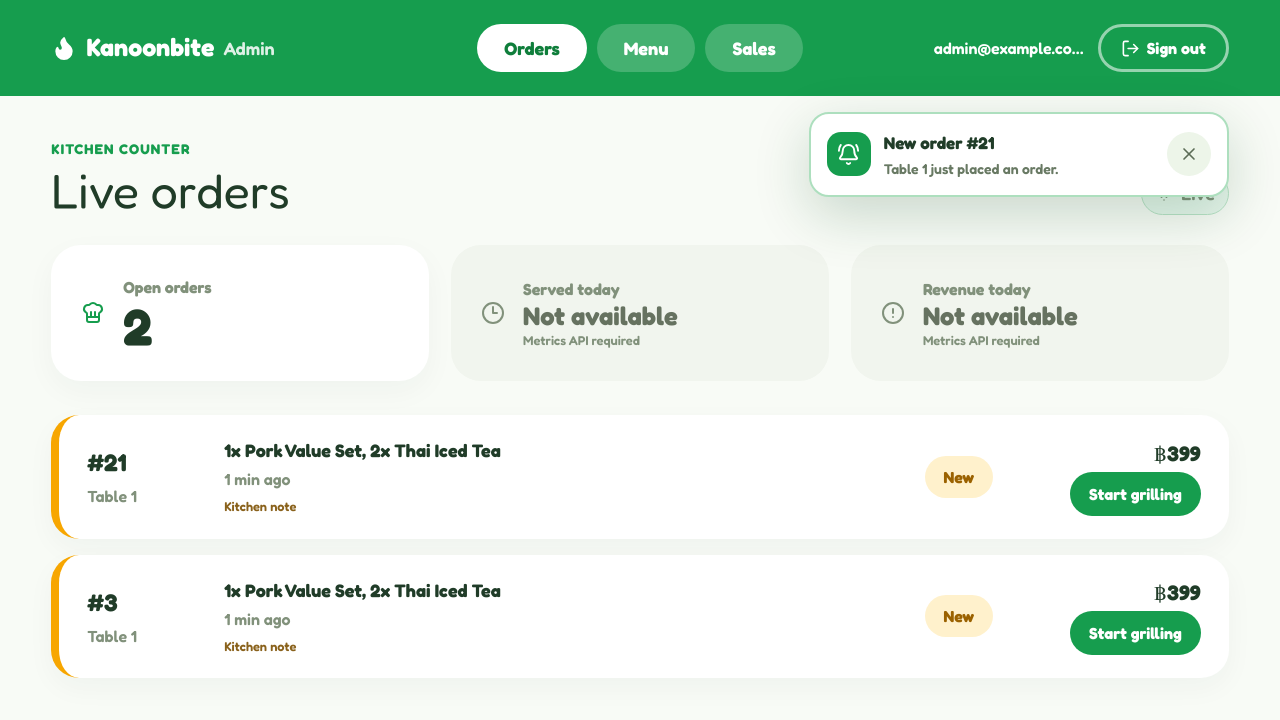
Test: admin backoffice › keeps the updated status when the post-PATCH order list is stale
Expected: the text "#21" is shown, [51,415,1229,539]
Click the 1st button "Start grilling" at (1135,494), box [1070,472,1201,516]
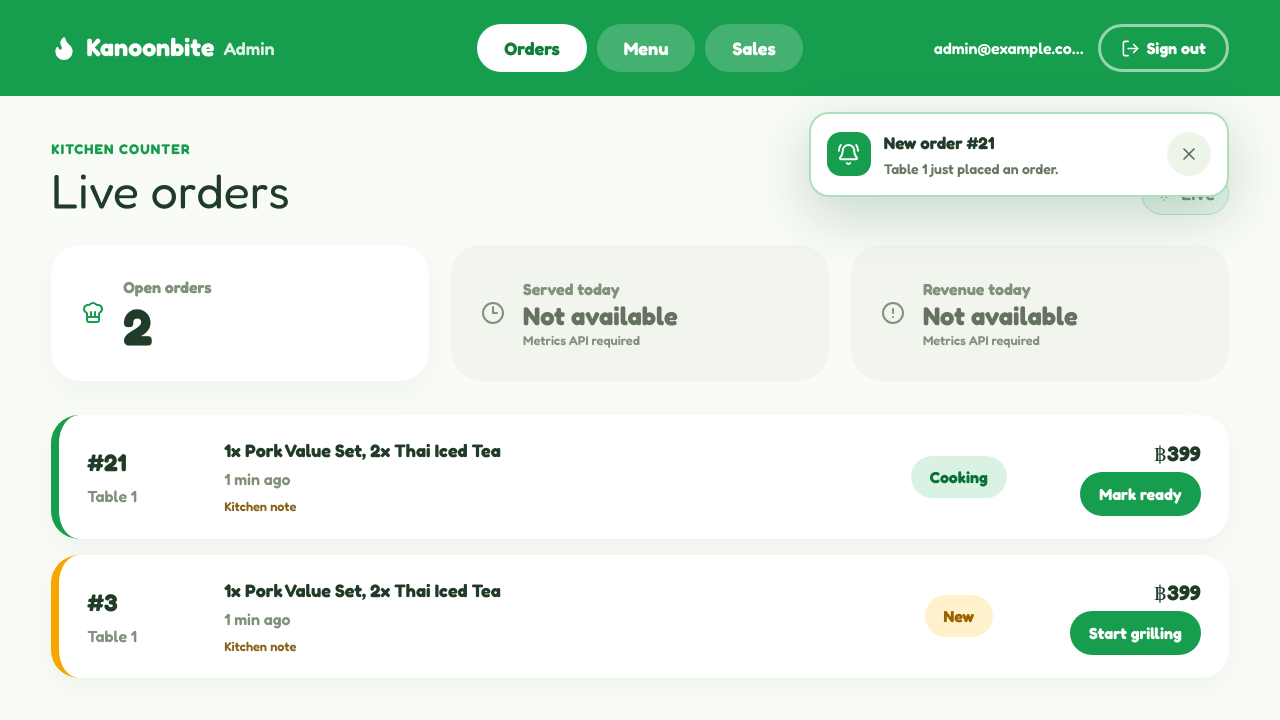
Expected: the text "Cooking" is shown, [911,456,1007,498]
Expected: the button "Mark ready" is shown, [1080,472,1201,516]
